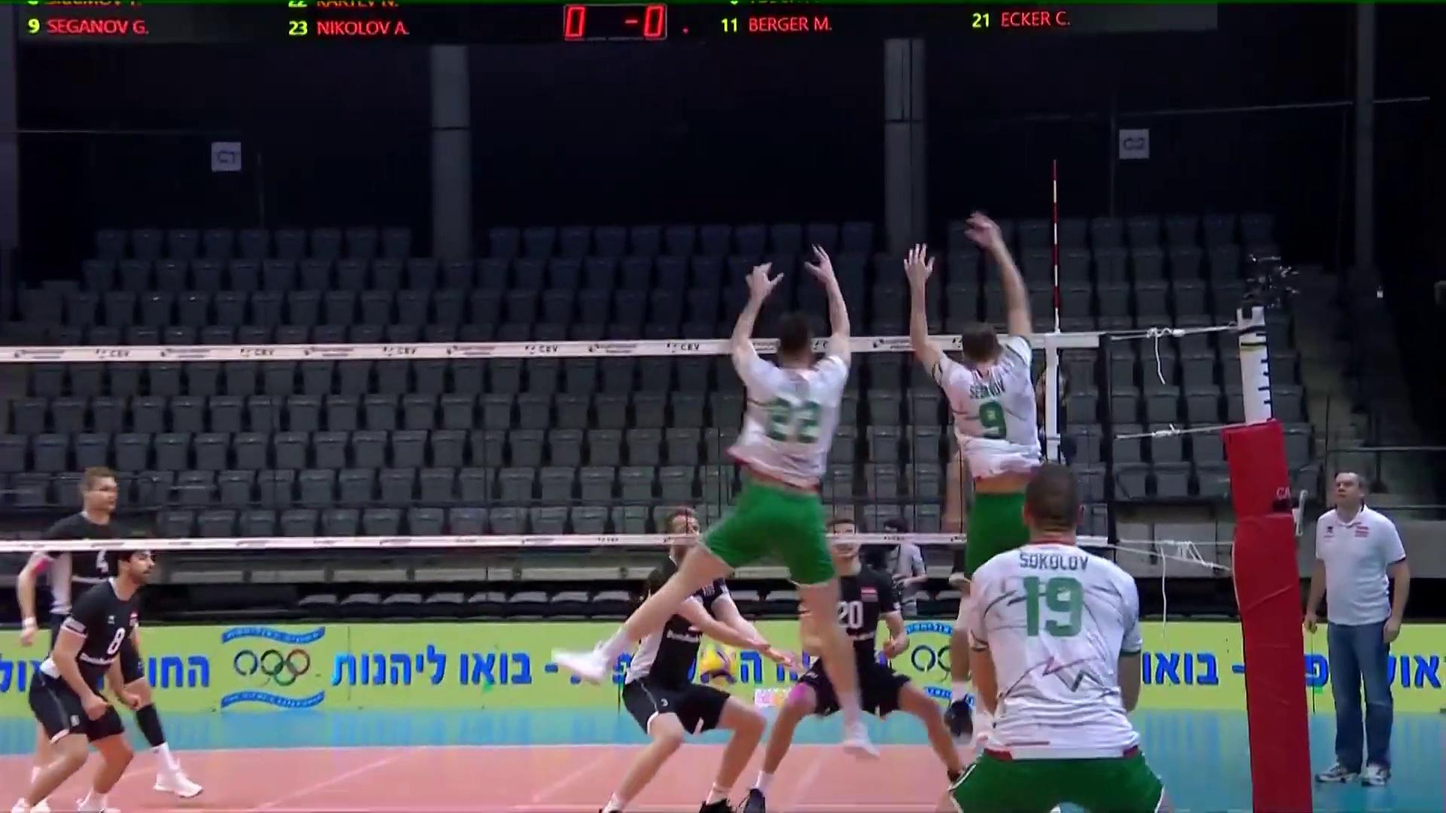ball: (695, 650, 744, 694)
